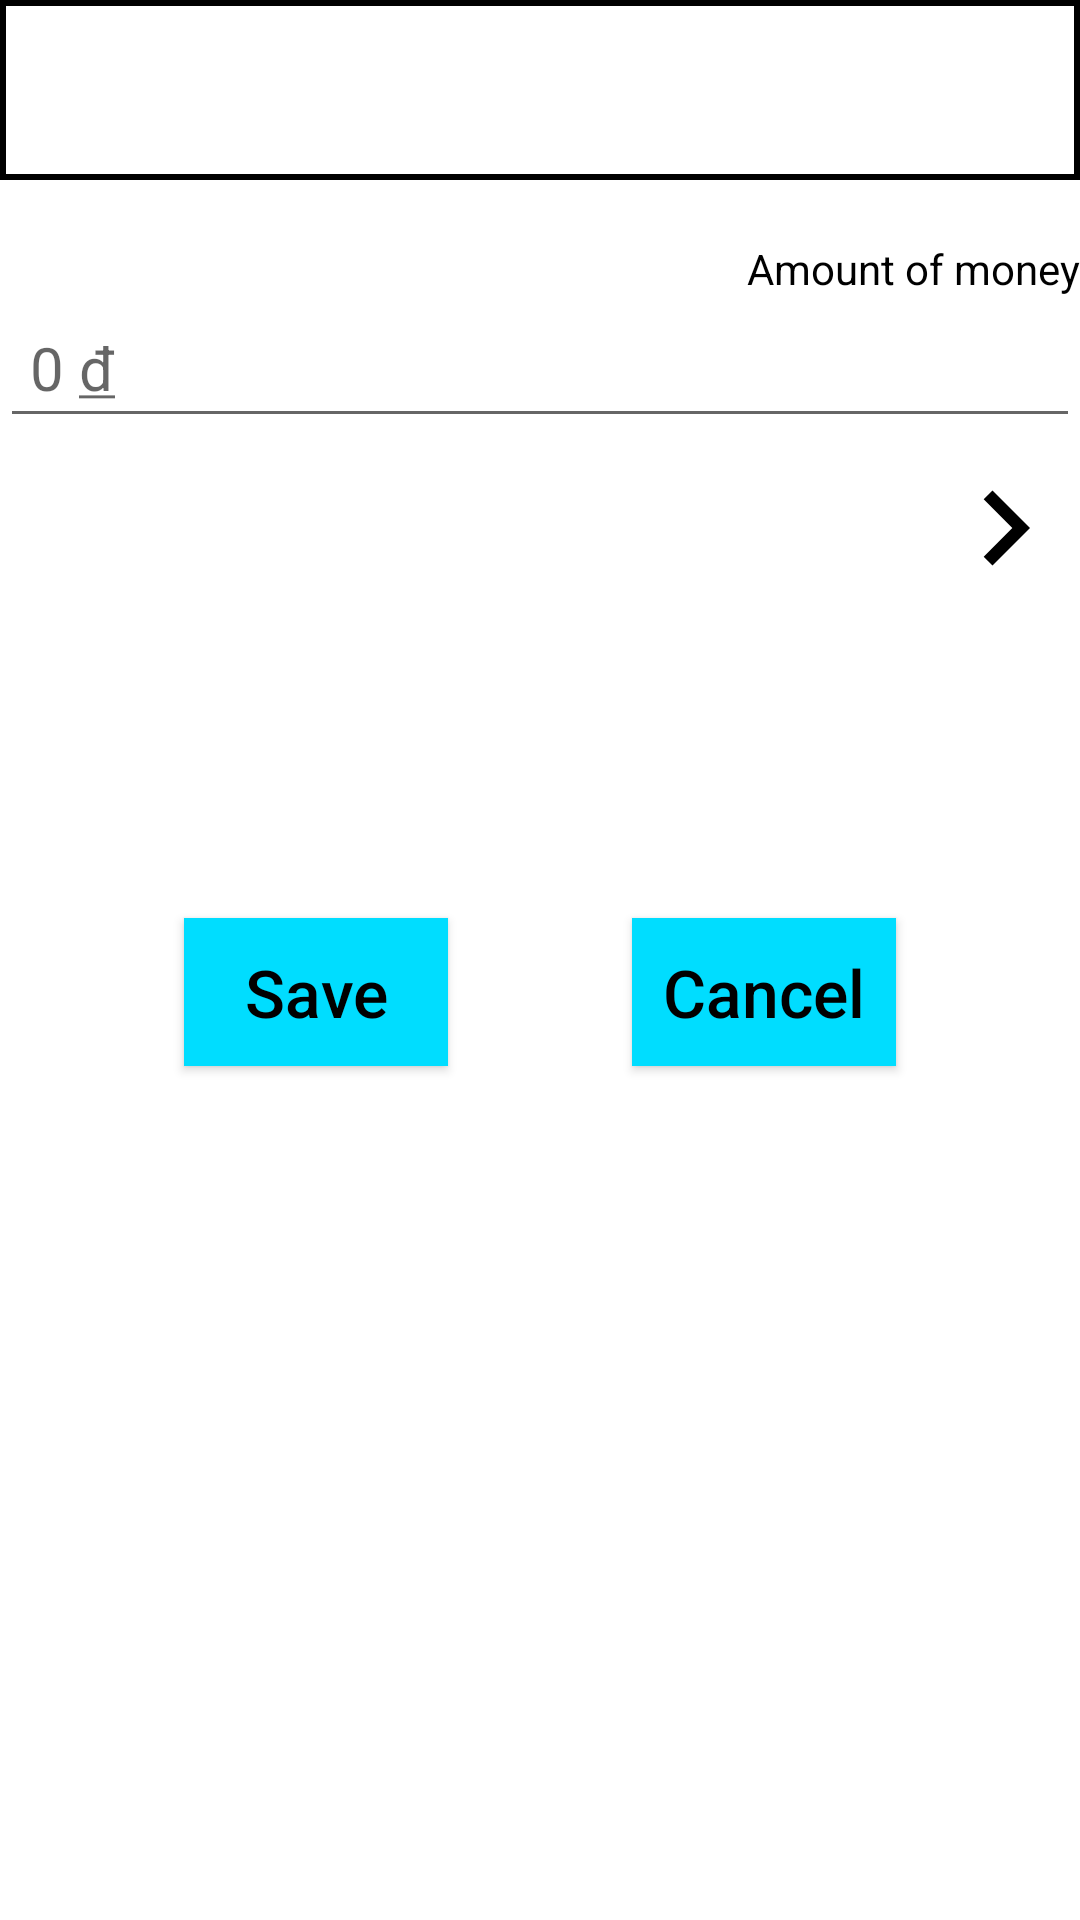

Where to tap for icons on this 1080px×1920px app screen, as (x,y):
navigate next: (1007,528)
